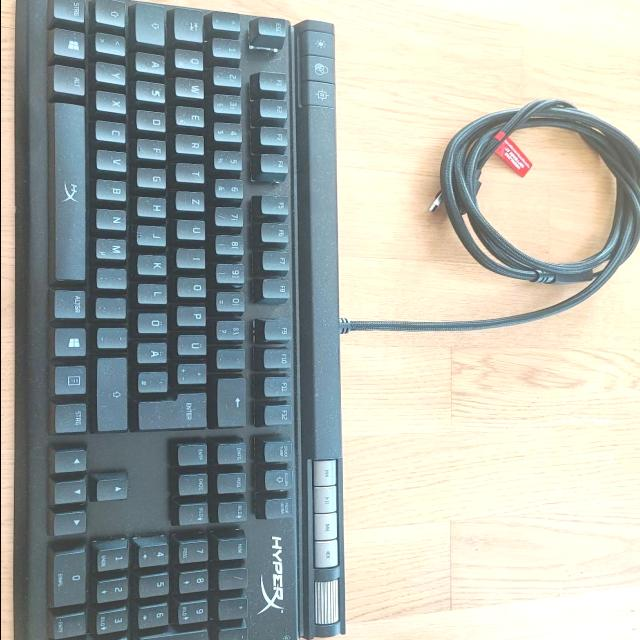0: (218, 290, 249, 312)
1: (214, 37, 245, 58)
2: (215, 65, 245, 86)
3: (215, 93, 245, 114)
4: (216, 121, 246, 142)
5: (215, 149, 246, 171)
6: (217, 177, 247, 199)
7: (217, 206, 247, 227)
8: (217, 233, 248, 255)
9: (217, 261, 249, 283)
a: (137, 51, 169, 74)
accent: (218, 347, 248, 369)
ae: (139, 341, 171, 363)
alt-left: (55, 63, 89, 95)
altgr-right: (56, 287, 90, 319)
b: (98, 178, 130, 201)
c: (98, 119, 130, 142)
caret: (214, 11, 244, 31)
comma: (97, 266, 130, 288)
d: (137, 109, 169, 131)
del: (219, 376, 249, 426)
e: (178, 105, 208, 127)
enter: (140, 390, 212, 429)
f: (139, 138, 170, 160)
g: (139, 166, 170, 188)
h: (139, 195, 170, 217)
hash: (140, 370, 172, 392)
i: (179, 247, 209, 268)
j: (139, 224, 170, 246)
k: (139, 253, 171, 275)
keyboard: (13, 0, 320, 640)
l: (139, 282, 171, 304)
less: (97, 31, 129, 55)
m: (97, 236, 131, 259)
minus: (99, 326, 131, 348)
n: (97, 208, 130, 230)
o: (179, 275, 210, 297)
oe: (139, 311, 171, 333)
p: (179, 304, 210, 325)
plus: (178, 362, 210, 384)
point: (98, 296, 130, 318)
q: (177, 48, 207, 70)
r: (177, 133, 207, 154)
s: (137, 80, 169, 102)
shift-left: (97, 0, 129, 26)
shift-lock: (137, 2, 169, 44)
shift-right: (97, 355, 131, 431)
space: (54, 100, 89, 282)
ss: (218, 319, 248, 341)
strg-left: (55, 0, 89, 22)
strg-right: (56, 401, 90, 434)
t: (178, 162, 208, 183)
tab: (177, 7, 207, 42)
u: (178, 218, 209, 240)
ue: (178, 333, 210, 355)
v: (99, 149, 131, 171)
w: (177, 76, 207, 98)
x: (98, 89, 130, 113)
y: (97, 60, 129, 84)
z: (177, 190, 208, 211)
